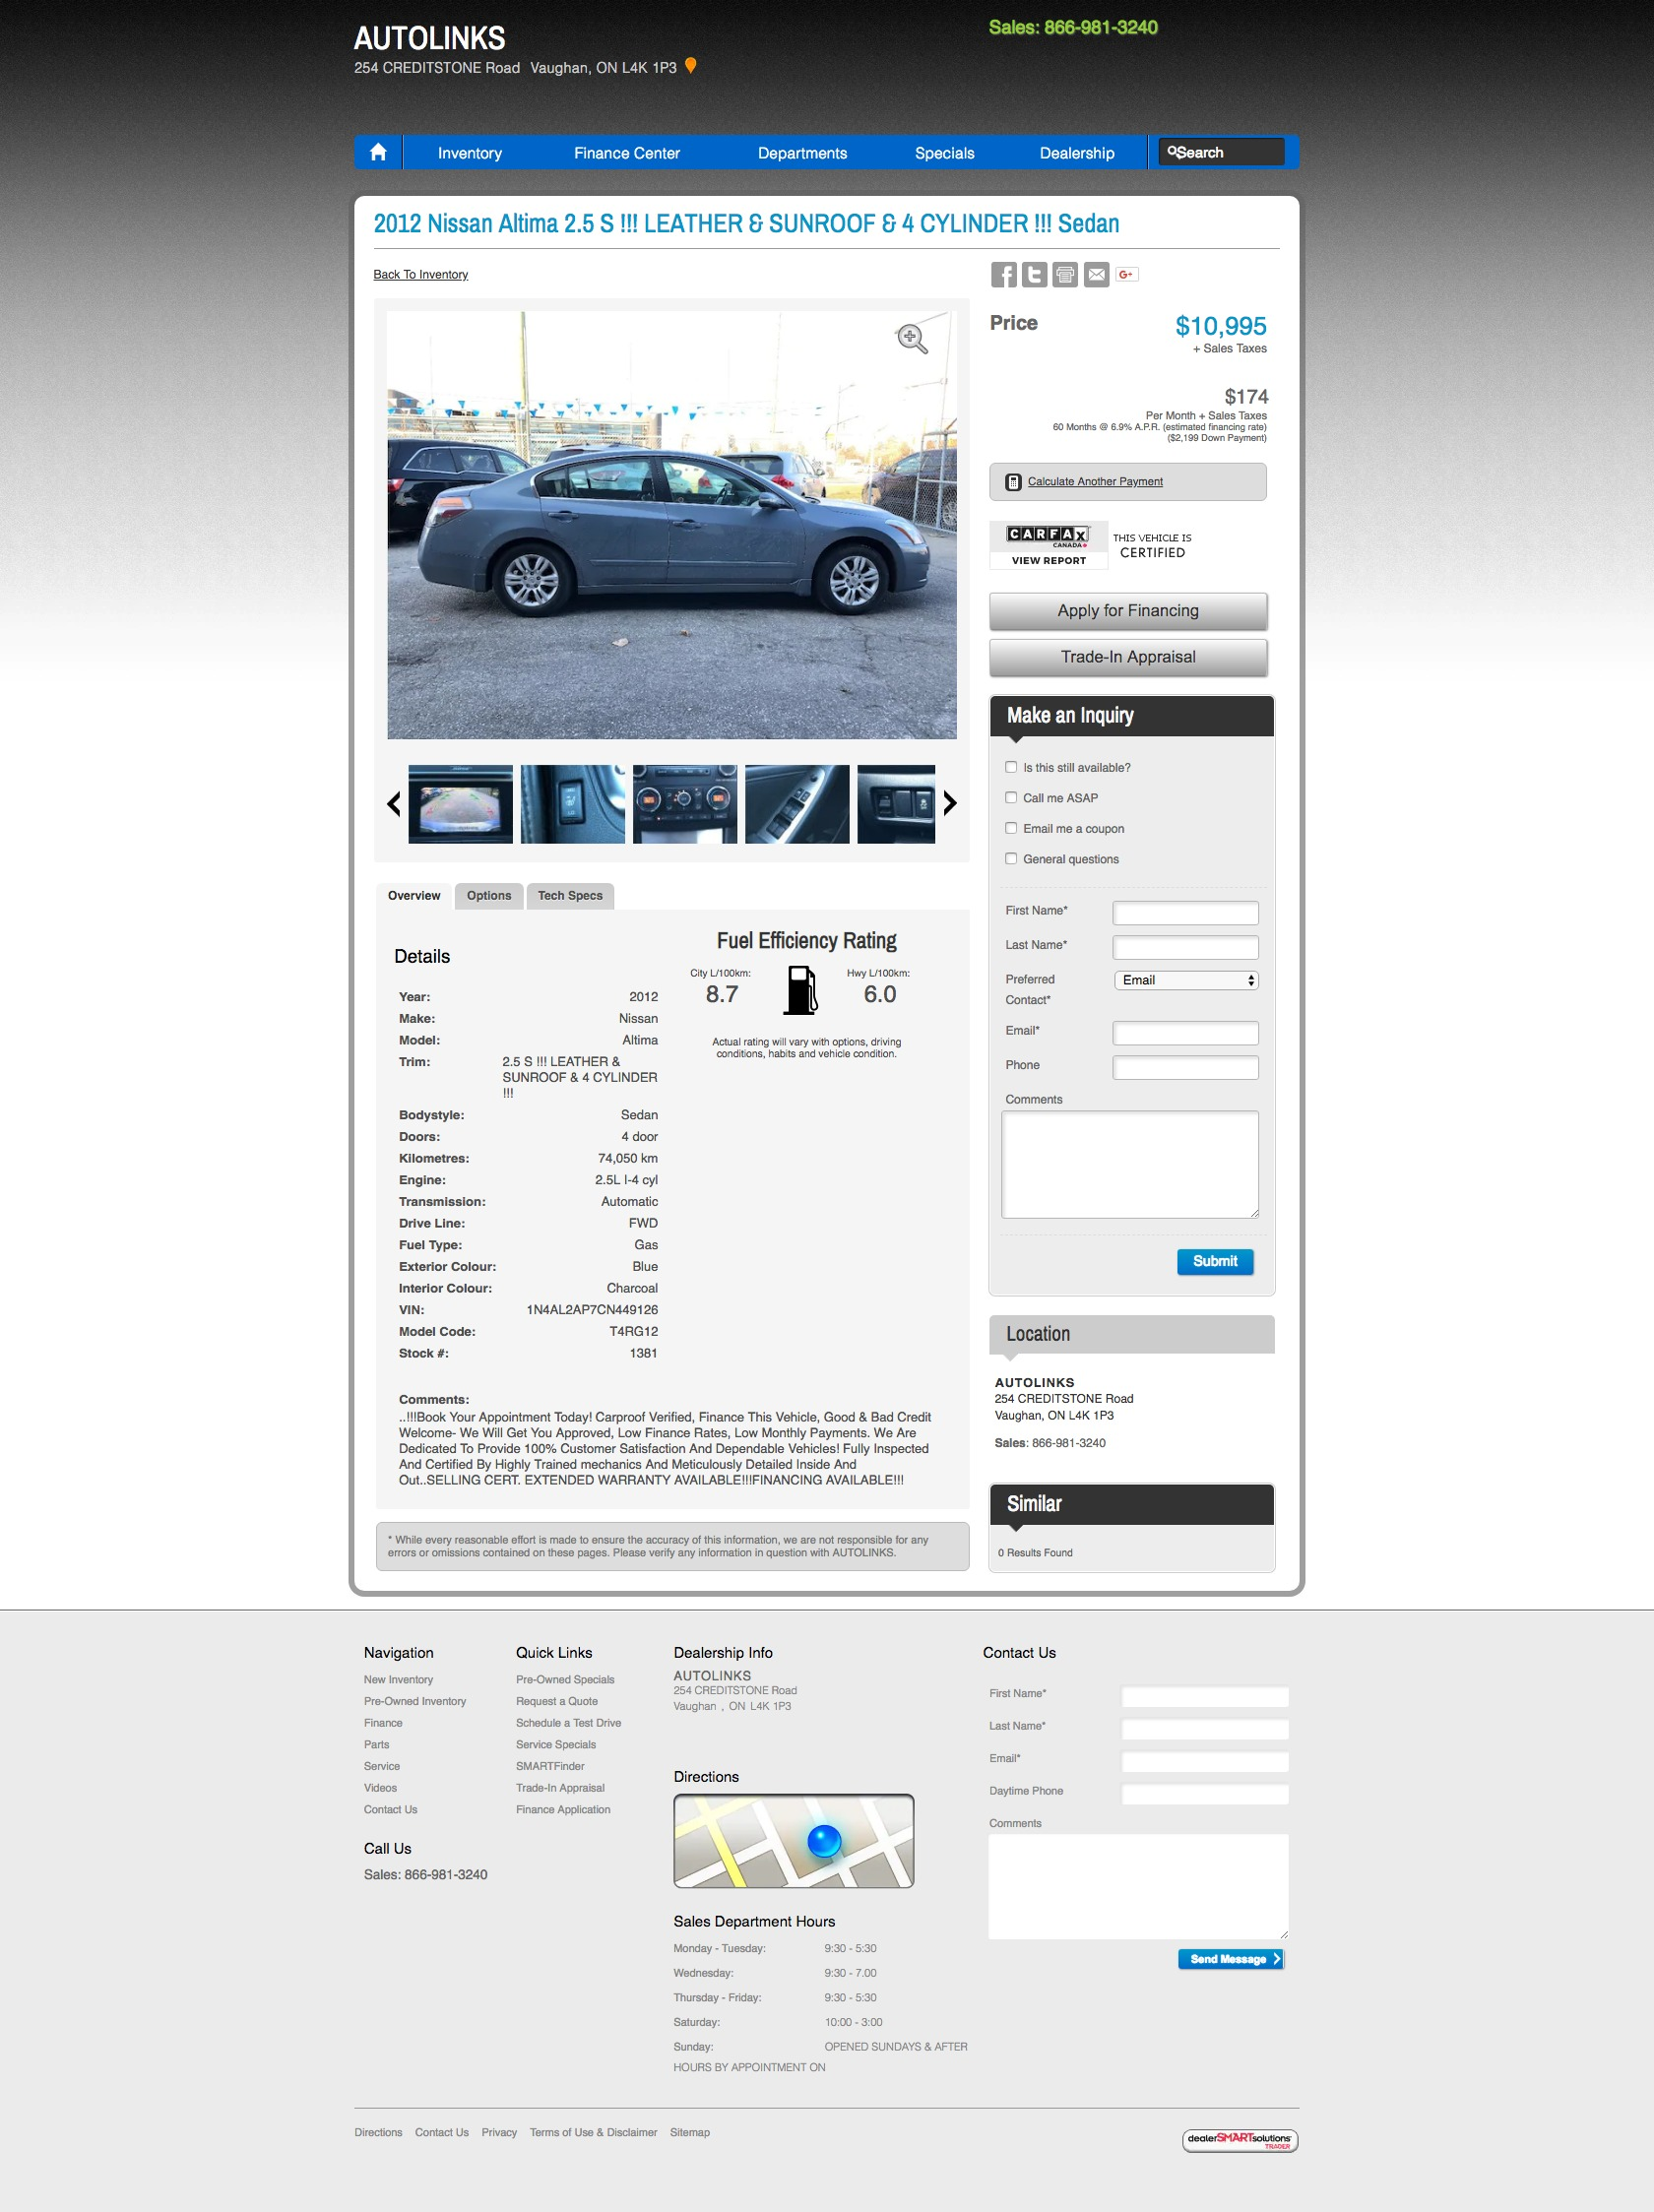car: (943, 789, 959, 818)
